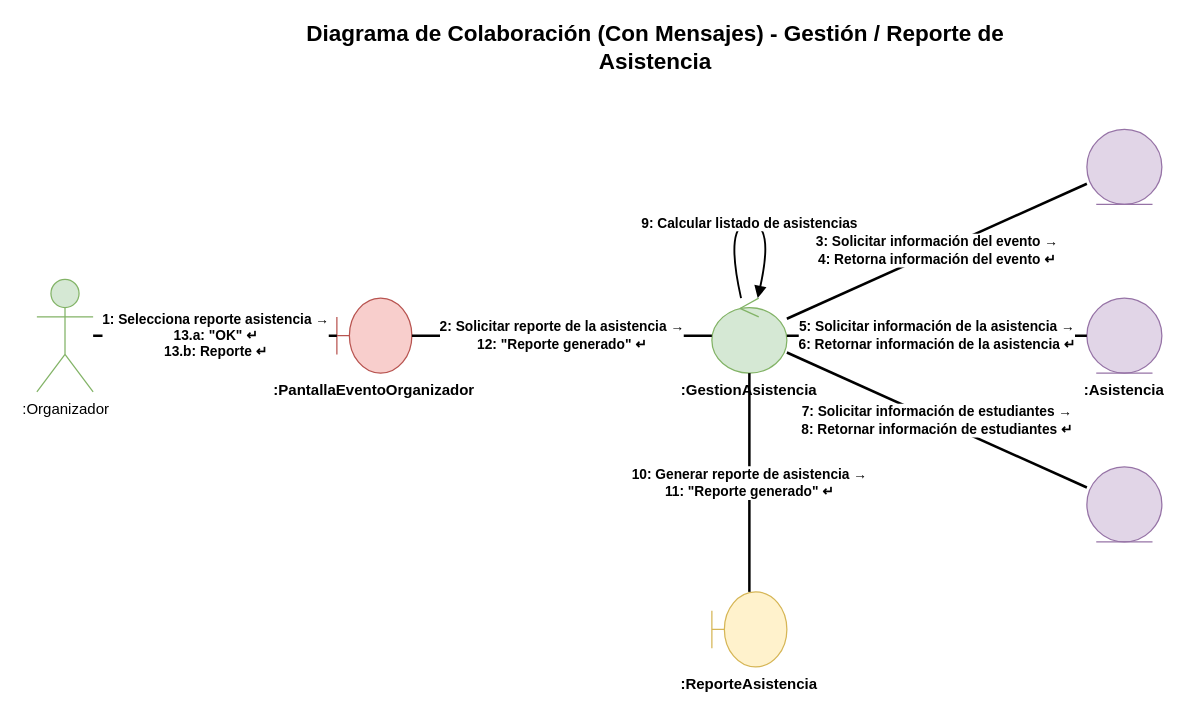
This 1186x715 diagram has some shape labels left out. The shapes that lost their labels are listed below. From the top down, each one's centre as x and y in pixels, then its label:
pixel 1124 166: :Evento
pixel 1124 504: :Estudiante
